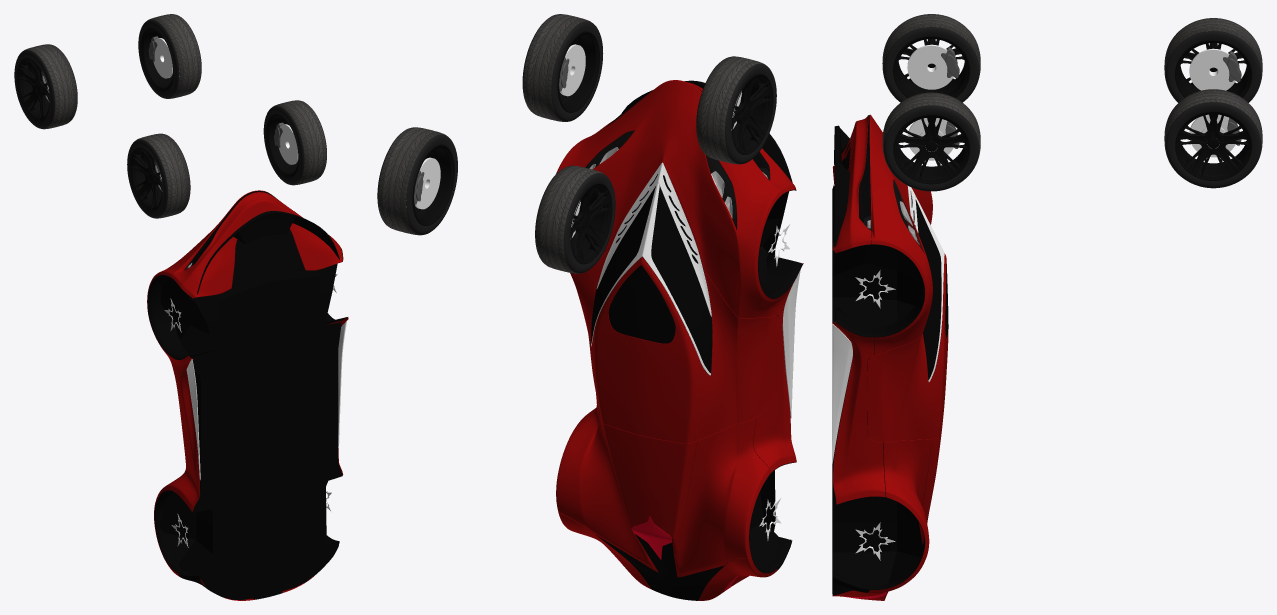
File: tempest-vx.glb
3 renders of one model, left to right at view 1: azimuth 30°, elevation 25°; view 2: azimuth 150°, elevation 25°; view 3: azimuth 270°, elevation 25°, orthographic. The views are drawn at different scales.
Parts seen in each view (by area): view 1: Object_7, Object_14, Object_17, Object_9, vc-wheel-part-node-1-Object_4, vc-wheel-part-node-0-Object_4, vc-wheel-part-node-2-Object_4, vc-wheel-part-node-3-Object_4, Object_19, vc-wheel-part-node-1-Object_21, vc-wheel-part-node-2-Object_0, vc-wheel-part-node-2-Object_21 (+10 smaller); view 2: Object_10, Object_15, Object_13, Object_22, Object_11, Object_7, Object_9, vc-wheel-part-node-1-Object_4, vc-wheel-part-node-2-Object_4, vc-wheel-part-node-0-Object_4, vc-wheel-part-node-3-Object_4, Object_19 (+20 smaller); view 3: Object_7, Object_10, Object_15, Object_9, Object_13, Object_14, Object_17, vc-wheel-part-node-0-Object_0, vc-wheel-part-node-3-Object_0, Object_19, vc-wheel-part-node-0-Object_21, vc-wheel-part-node-3-Object_21 (+15 smaller).
Boxes of the visible parts, x1=… form: Object_7: x1=147, y1=227, x2=347, y2=600; Object_14: x1=172, y1=192, x2=342, y2=298; Object_17: x1=178, y1=191, x2=339, y2=597; Object_9: x1=171, y1=317, x2=348, y2=511; vc-wheel-part-node-1-Object_4: x1=24, y1=44, x2=77, y2=129; vc-wheel-part-node-0-Object_4: x1=273, y1=100, x2=326, y2=185; vc-wheel-part-node-2-Object_4: x1=137, y1=133, x2=190, y2=218; vc-wheel-part-node-3-Object_4: x1=148, y1=14, x2=201, y2=98; Object_19: x1=186, y1=321, x2=346, y2=479; vc-wheel-part-node-1-Object_21: x1=17, y1=59, x2=49, y2=120; vc-wheel-part-node-2-Object_0: x1=127, y1=139, x2=190, y2=218; vc-wheel-part-node-2-Object_21: x1=130, y1=148, x2=162, y2=210; Object_10: x1=572, y1=247, x2=779, y2=443; Object_15: x1=556, y1=80, x2=783, y2=318; Object_13: x1=556, y1=394, x2=769, y2=577; Object_22: x1=591, y1=186, x2=712, y2=372; Object_11: x1=601, y1=420, x2=697, y2=555; Object_7: x1=585, y1=130, x2=802, y2=576; Object_9: x1=580, y1=263, x2=803, y2=473; vc-wheel-part-node-1-Object_4: x1=535, y1=165, x2=611, y2=273; vc-wheel-part-node-2-Object_4: x1=696, y1=56, x2=764, y2=164; vc-wheel-part-node-0-Object_4: x1=523, y1=14, x2=591, y2=121; vc-wheel-part-node-3-Object_4: x1=378, y1=127, x2=446, y2=235; Object_19: x1=591, y1=159, x2=800, y2=418; Object_7: x1=832, y1=130, x2=929, y2=589; Object_10: x1=867, y1=253, x2=948, y2=442; Object_15: x1=869, y1=114, x2=932, y2=354; Object_9: x1=832, y1=322, x2=885, y2=504; Object_13: x1=883, y1=439, x2=931, y2=559; Object_14: x1=832, y1=116, x2=871, y2=253; Object_17: x1=832, y1=115, x2=870, y2=595; vc-wheel-part-node-0-Object_0: x1=884, y1=105, x2=979, y2=191; vc-wheel-part-node-3-Object_0: x1=1166, y1=102, x2=1261, y2=188; Object_19: x1=832, y1=195, x2=944, y2=463; vc-wheel-part-node-0-Object_21: x1=894, y1=115, x2=969, y2=181; vc-wheel-part-node-3-Object_21: x1=1176, y1=112, x2=1250, y2=178.
Size of the model in its own units: 1.96 by 5.12 by 3.75.
13 materials, 1 textured.
